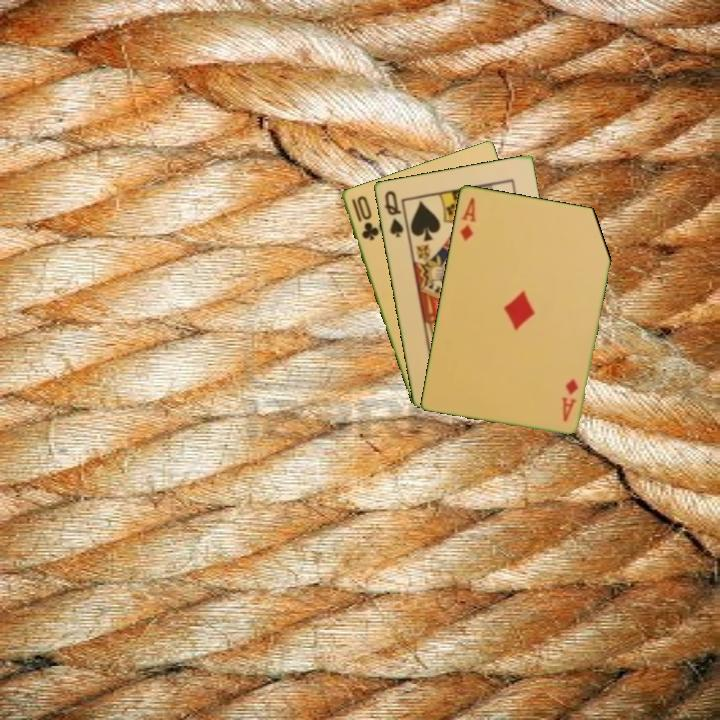10c: (348, 192, 381, 243)
Ad: (558, 375, 581, 424), (456, 193, 478, 243)
Qs: (380, 187, 406, 240)
